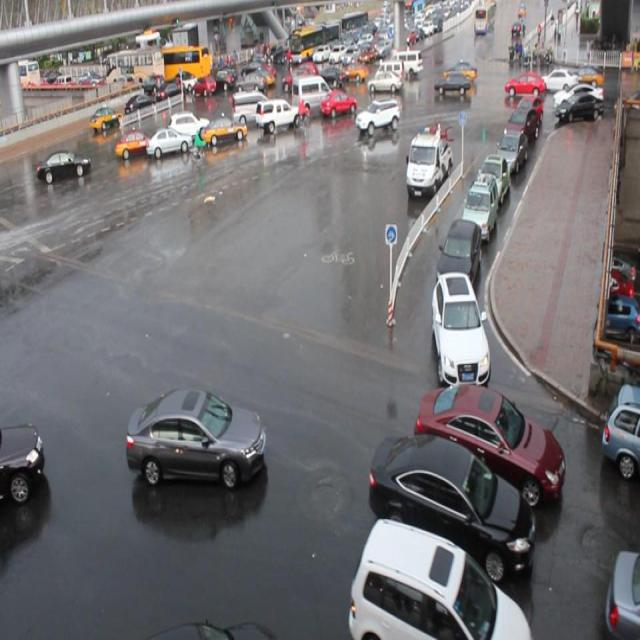bus: (404, 127, 451, 200)
car: (368, 431, 533, 579), (348, 514, 532, 640), (413, 382, 565, 504), (127, 386, 266, 486), (430, 268, 488, 384), (598, 381, 640, 471), (1, 419, 46, 503), (436, 213, 481, 292), (603, 545, 640, 640), (460, 173, 498, 242), (473, 150, 509, 208), (38, 145, 91, 177), (356, 98, 399, 135), (202, 112, 247, 146), (255, 98, 302, 130), (495, 124, 527, 170), (507, 106, 539, 150), (168, 110, 211, 139), (146, 126, 192, 153), (517, 94, 543, 132), (115, 128, 156, 152), (321, 90, 358, 115)
truck: (292, 77, 333, 113), (232, 90, 274, 122)
